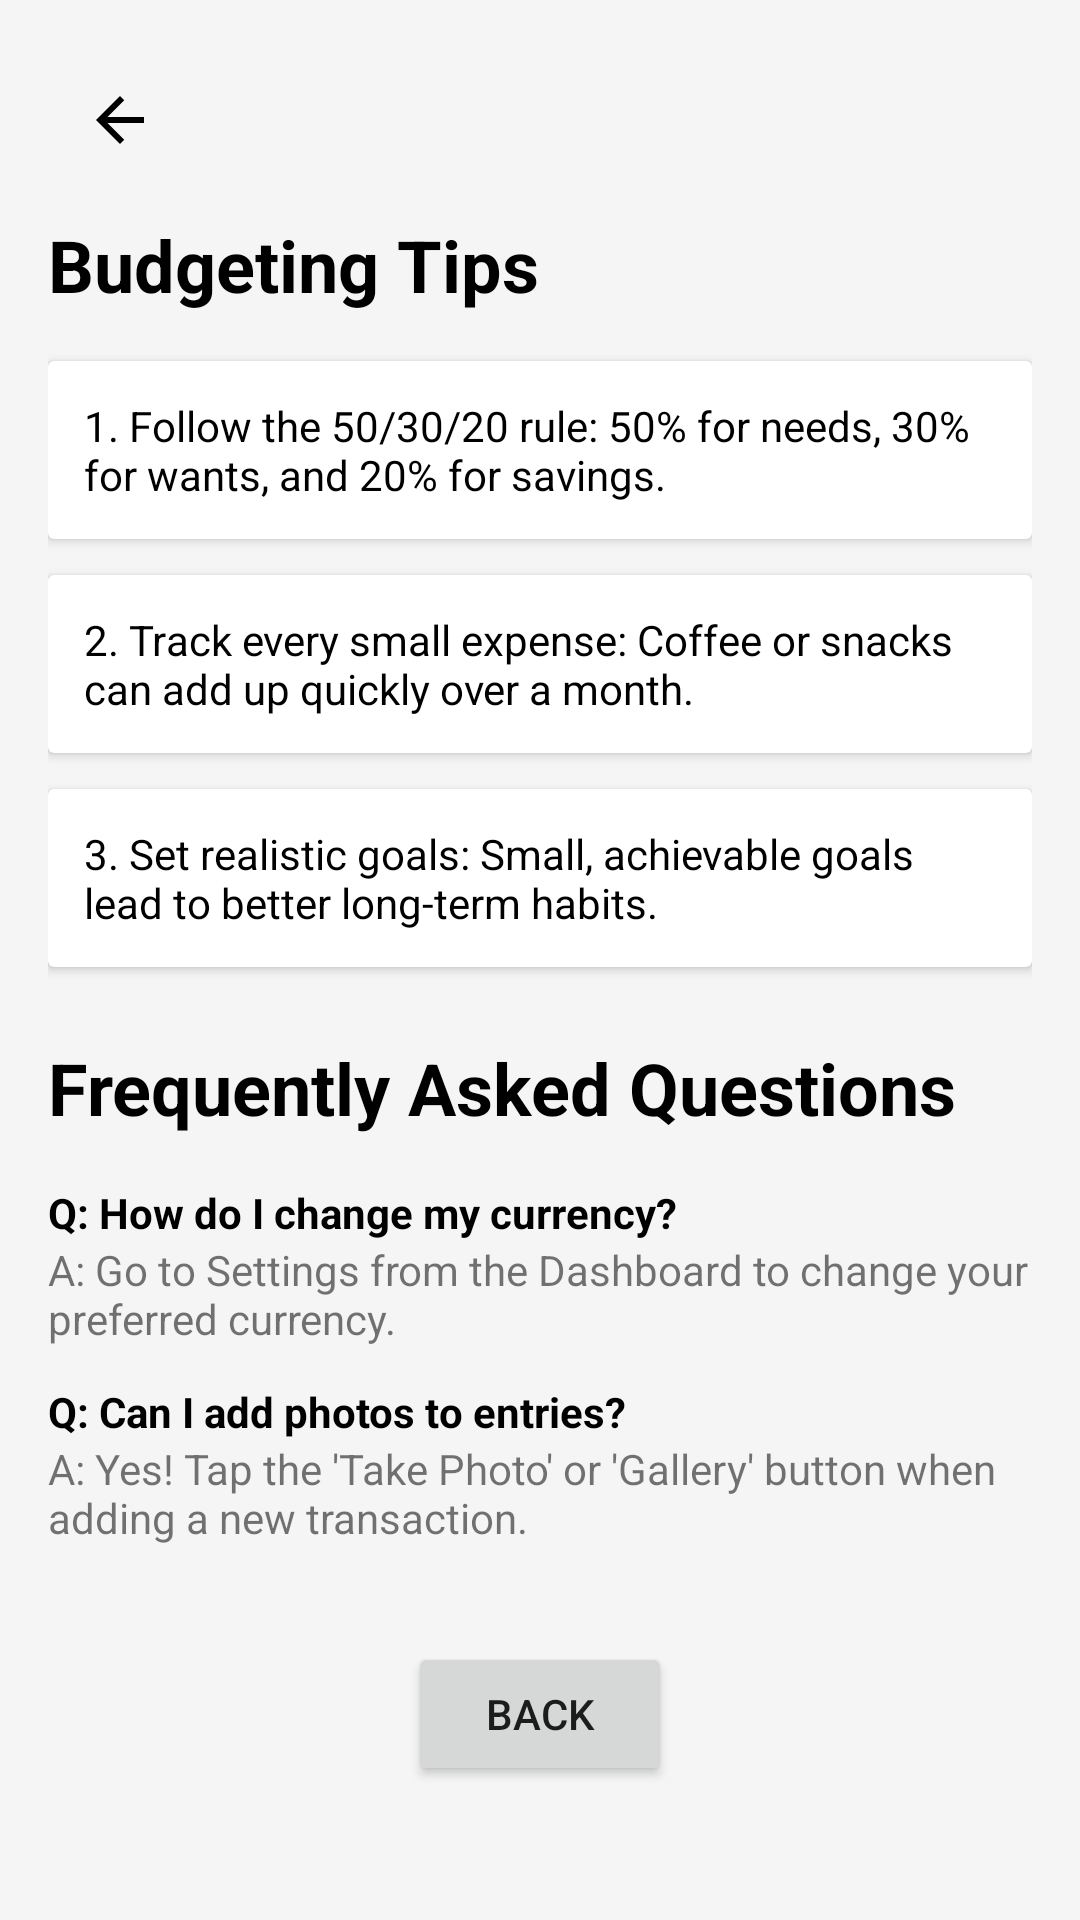

Locate icon controls on the screen. Image size 1080×1920, boxes as [x1, y1, x2, y2].
arrow back: [96, 96, 144, 144]
